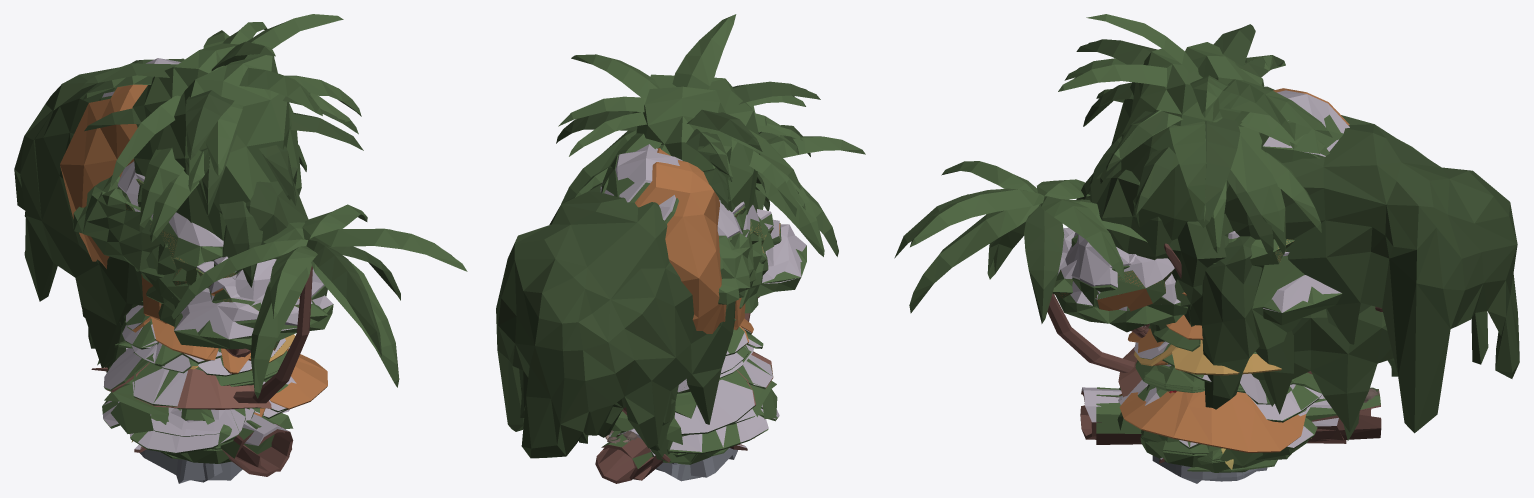
The model's file is nature.glb.
The picture shows the model from 3 angles, left to right: view 1: azimuth 30°, elevation 25°; view 2: azimuth 150°, elevation 25°; view 3: azimuth 270°, elevation 25°; orthographic projection. The views are drawn at different scales.
Visible parts, largest first — view 1: PalmTree_2, Willow_2, BirchTree_2, PalmTree_1, BirchTree_Autumn_1, PalmTree_4, PalmTree_3, CommonTree_4, CommonTree_Snow_1, PineTree_Autumn_2, CommonTree_Snow_2, PineTree_Snow_3 (+15 smaller); view 2: Willow_2, BirchTree_Autumn_1, PalmTree_1, PalmTree_3, BirchTree_3, PalmTree_2, PineTree_Snow_2, BirchTree_2, CommonTree_4, BirchTree_Snow_1, CommonTree_Snow_1, PineTree_Snow_3 (+14 smaller); view 3: Willow_2, PalmTree_2, PalmTree_1, BirchTree_2, PineTree_Autumn_1, PalmTree_3, Willow_1, Willow_3, CommonTree_Snow_1, BirchTree_3, PalmTree_4, BirchTree_1 (+16 smaller).
Boxes of the visible parts, x1,y1,x2,y2 form: PalmTree_2: (170, 204, 467, 403); Willow_2: (14, 58, 184, 368); BirchTree_2: (134, 54, 308, 350); PalmTree_1: (80, 14, 361, 215); BirchTree_Autumn_1: (60, 84, 167, 323); PalmTree_4: (84, 108, 363, 287); PalmTree_3: (83, 30, 361, 232); CommonTree_4: (73, 175, 164, 281); CommonTree_Snow_1: (174, 259, 332, 349); PineTree_Autumn_2: (107, 317, 271, 409); CommonTree_Snow_2: (117, 161, 328, 357); PineTree_Snow_3: (102, 320, 296, 454); Willow_2: (496, 183, 735, 458); BirchTree_Autumn_1: (635, 148, 745, 333); PalmTree_1: (558, 14, 805, 188); PalmTree_3: (556, 81, 820, 216); BirchTree_3: (636, 86, 747, 232); PalmTree_2: (744, 106, 865, 321); PineTree_Snow_2: (674, 326, 772, 435); BirchTree_2: (632, 74, 760, 214); CommonTree_4: (718, 229, 756, 304); BirchTree_Snow_1: (600, 144, 682, 220); CommonTree_Snow_1: (761, 224, 806, 291); PineTree_Snow_3: (608, 339, 779, 454); Willow_2: (1224, 115, 1519, 433); PalmTree_2: (894, 161, 1147, 372); PalmTree_1: (1058, 14, 1328, 257); BirchTree_2: (1090, 48, 1229, 260); PineTree_Autumn_1: (1119, 315, 1305, 452); PalmTree_3: (1076, 39, 1332, 255); Willow_1: (1149, 236, 1359, 440); Willow_3: (1251, 303, 1397, 432); CommonTree_Snow_1: (1057, 227, 1342, 332); BirchTree_3: (1168, 42, 1264, 323); PalmTree_4: (1076, 86, 1321, 252); BirchTree_1: (1252, 114, 1343, 341).
Size of the model in its own units: 2.88 by 4.75 by 5.86.
